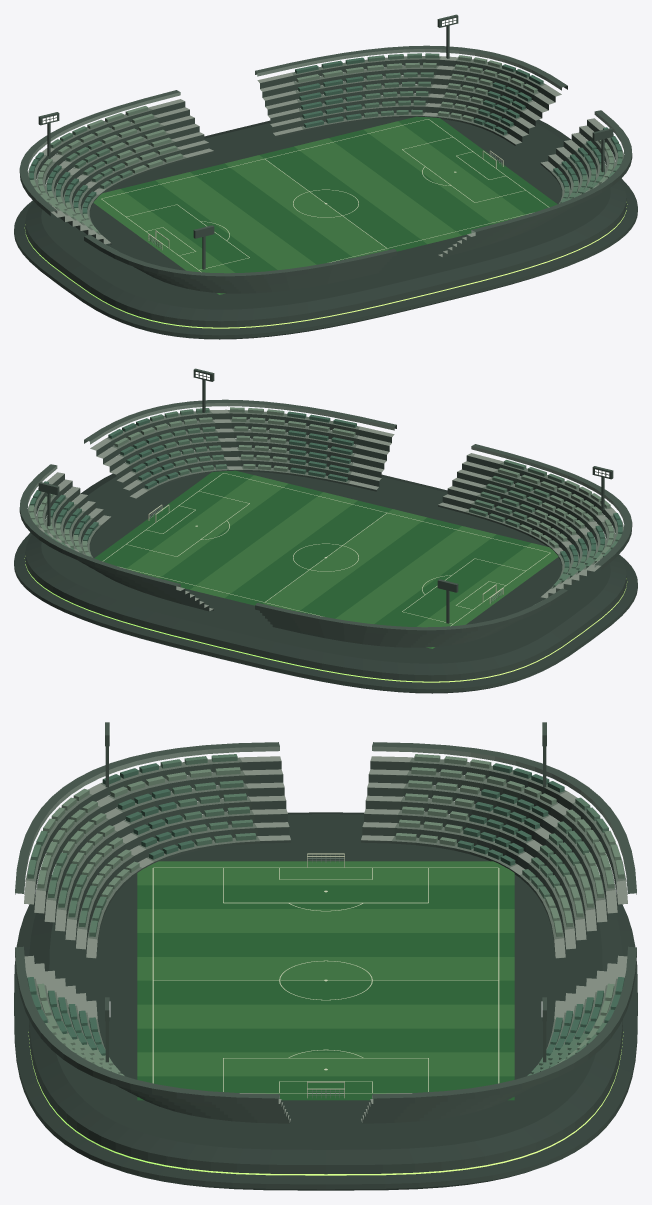
The model's file is stadium.glb.
The picture shows the model from 3 angles, top to bottom: view 1: azimuth 30°, elevation 25°; view 2: azimuth 150°, elevation 25°; view 3: azimuth 270°, elevation 25°; orthographic projection. The views are drawn at different scales.
Visible parts, largest first — view 1: Pitch · alternating mowing stripes, Base · layered architecture, Seven tiers · treads and risers, Tier seating · pine and sage blocks, Upper rim · four spectator sectors, Sector stairways, Concourse · touchline perimeter, Pitch · regulation markings, Four floodlight masts, Fascia · lime perimeter inlay; view 2: Pitch · alternating mowing stripes, Base · layered architecture, Seven tiers · treads and risers, Tier seating · pine and sage blocks, Upper rim · four spectator sectors, Sector stairways, Concourse · touchline perimeter, Pitch · regulation markings, Four floodlight masts, Fascia · lime perimeter inlay; view 3: Pitch · alternating mowing stripes, Base · layered architecture, Seven tiers · treads and risers, Tier seating · pine and sage blocks, Upper rim · four spectator sectors, Sector stairways, Concourse · touchline perimeter, Pitch · regulation markings, Fascia · lime perimeter inlay, Four floodlight masts.
Boxes of the visible parts, x1,y1,x2,y2 form: Pitch · alternating mowing stripes: [93, 116, 557, 294]; Base · layered architecture: [14, 103, 637, 339]; Seven tiers · treads and risers: [28, 56, 623, 293]; Tier seating · pine and sage blocks: [29, 53, 622, 250]; Upper rim · four spectator sectors: [19, 45, 632, 280]; Sector stairways: [41, 56, 604, 256]; Concourse · touchline perimeter: [106, 125, 545, 270]; Pitch · regulation markings: [101, 119, 549, 272]; Four floodlight masts: [38, 14, 613, 269]; Fascia · lime perimeter inlay: [24, 202, 627, 328]; Pitch · alternating mowing stripes: [94, 470, 558, 648]; Base · layered architecture: [14, 458, 637, 693]; Seven tiers · treads and risers: [28, 410, 623, 647]; Tier seating · pine and sage blocks: [29, 407, 622, 604]; Upper rim · four spectator sectors: [19, 399, 632, 634]; Sector stairways: [39, 409, 616, 610]; Concourse · touchline perimeter: [106, 479, 545, 624]; Pitch · regulation markings: [102, 473, 550, 626]; Four floodlight masts: [38, 368, 613, 623]; Fascia · lime perimeter inlay: [24, 556, 627, 682]; Pitch · alternating mowing stripes: [137, 861, 514, 1100]; Base · layered architecture: [14, 812, 637, 1190]; Seven tiers · treads and risers: [24, 757, 627, 1123]; Tier seating · pine and sage blocks: [27, 754, 624, 1075]; Upper rim · four spectator sectors: [15, 742, 636, 1104]; Sector stairways: [24, 756, 627, 1122]; Concourse · touchline perimeter: [117, 851, 534, 1111]; Pitch · regulation markings: [152, 867, 499, 1093]; Fascia · lime perimeter inlay: [28, 1032, 623, 1175]; Four floodlight masts: [105, 722, 546, 1062].
Size of the model in its own units: 32.4 by 6.01 by 23.4.
